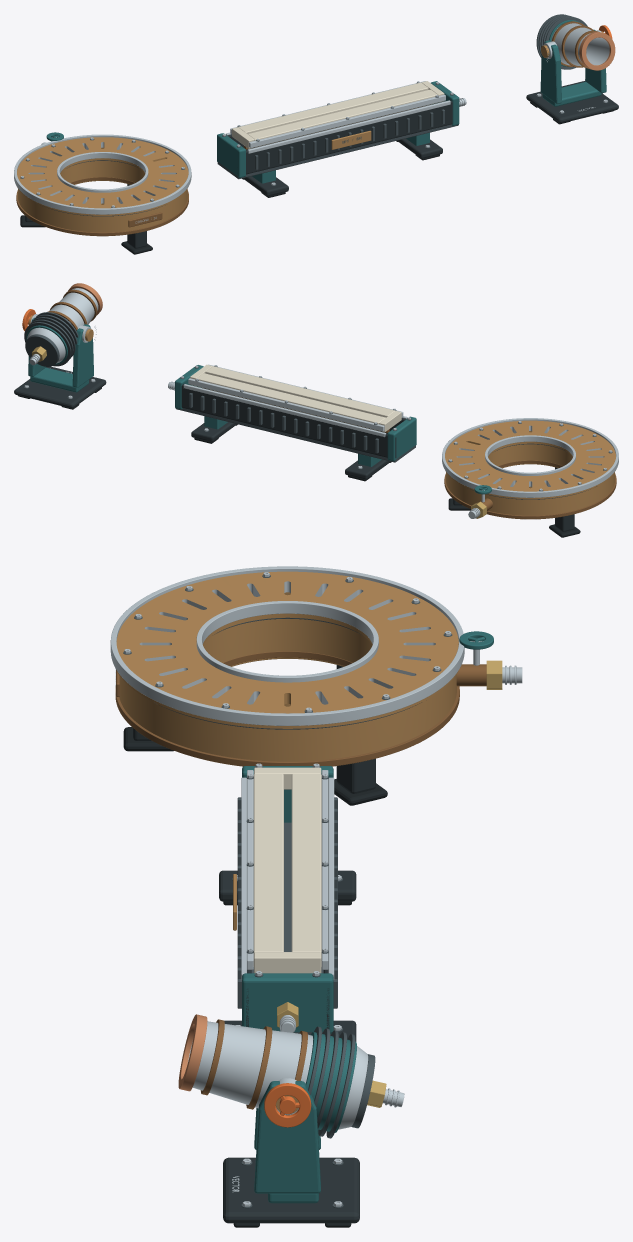
Rendered from burner-comparison.glb.
The picture shows the model from 3 angles, top to bottom: view 1: azimuth 30°, elevation 25°; view 2: azimuth 150°, elevation 25°; view 3: azimuth 270°, elevation 25°; orthographic projection. The views are drawn at different scales.
Visible parts, largest first — view 1: removable_port_crown, hollow_bronze_plenum, chassis_wall_front, outer_polished_crown_rim, ceramic_lip_front, ceramic_lip_rear, yoke_base_plate, hollow_tapered_barrel, lip_retainer_-1, inner_polished_guard_lip, lower_machined_bead, upper_stainless_trim_-1 (+10 smaller); view 2: removable_port_crown, hollow_bronze_plenum, chassis_wall_rear, outer_polished_crown_rim, ceramic_lip_rear, ceramic_lip_front, yoke_base_plate, lip_retainer_1, hollow_tapered_barrel, inner_polished_guard_lip, upper_stainless_trim_1, lower_machined_bead (+8 smaller); view 3: removable_port_crown, hollow_bronze_plenum, outer_polished_crown_rim, hollow_tapered_barrel, yoke_base_plate, ceramic_lip_front, ceramic_lip_rear, cast_yoke_1, teal_end_block_2, inner_polished_guard_lip, lower_machined_bead, teal_rear_jacket (+10 smaller).
Part boxes in pixels (x1,y1,x2,y2): removable_port_crown: (17, 137, 188, 215); hollow_bronze_plenum: (18, 147, 187, 236); chassis_wall_front: (246, 100, 452, 174); outer_polished_crown_rim: (14, 134, 191, 214); ceramic_lip_front: (248, 89, 437, 147); ceramic_lip_rear: (238, 82, 428, 134); yoke_base_plate: (526, 81, 618, 123); hollow_tapered_barrel: (551, 23, 609, 66); lip_retainer_-1: (249, 94, 445, 147); inner_polished_guard_lip: (57, 152, 148, 192); lower_machined_bead: (16, 177, 188, 235); upper_stainless_trim_-1: (247, 100, 450, 153); removable_port_crown: (445, 420, 615, 499); hollow_bronze_plenum: (446, 431, 614, 519); chassis_wall_rear: (181, 384, 396, 457); outer_polished_crown_rim: (442, 418, 618, 497); ceramic_lip_rear: (196, 373, 385, 430); ceramic_lip_front: (205, 366, 394, 417); yoke_base_plate: (14, 366, 106, 408); lip_retainer_1: (188, 378, 384, 431); hollow_tapered_barrel: (27, 288, 98, 363); inner_polished_guard_lip: (485, 435, 575, 475); upper_stainless_trim_1: (183, 384, 386, 437); lower_machined_bead: (444, 460, 616, 519); removable_port_crown: (116, 571, 458, 728); hollow_bronze_plenum: (119, 592, 456, 766); outer_polished_crown_rim: (110, 566, 464, 725); hollow_tapered_barrel: (188, 1021, 368, 1129); yoke_base_plate: (223, 1157, 359, 1223); ceramic_lip_front: (253, 774, 283, 966); ceramic_lip_rear: (291, 774, 321, 966); cast_yoke_1: (254, 1081, 320, 1193); teal_end_block_2: (242, 973, 333, 1033); inner_polished_guard_lip: (196, 601, 378, 682); lower_machined_bead: (115, 651, 459, 766); teal_rear_jacket: (306, 1032, 356, 1132).
Size of the model in its own units: 2.79 by 0.4213 by 0.858.
